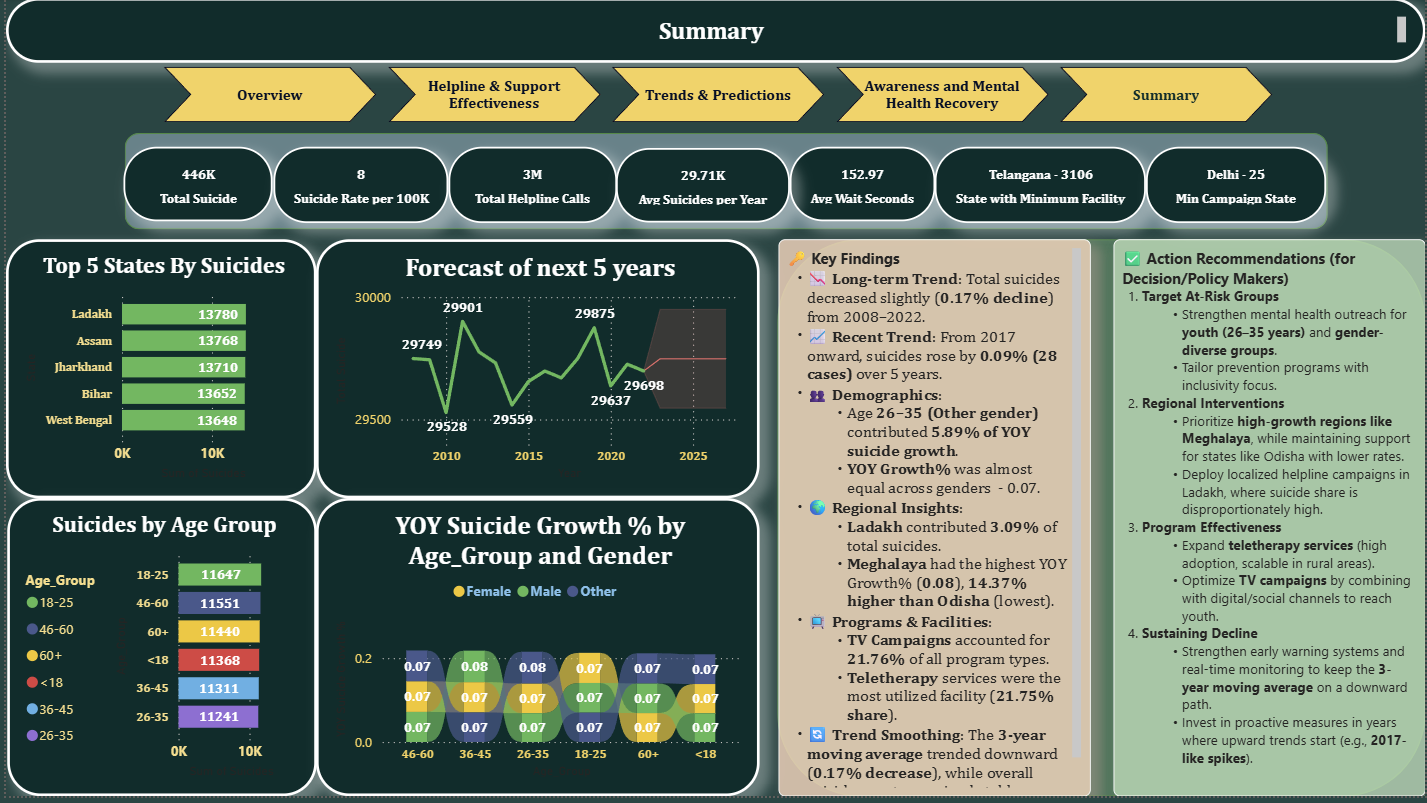

The dashboard page shown, as its layout file describes it:
{"tool":"powerbi","page":{"name":"Summary","canvas":[1280,720],"ordinal":4},"visuals":[{"type":"textbox","box":[0,0,1280.3,58],"z":0},{"type":"shape","box":[695.8,217.7,584.5,502.6],"z":1000},{"type":"shape","box":[107.6,122.3,1084.7,86.8],"z":2000},{"type":"pageNavigator","box":[141.8,62.4,1000.3,50.1],"z":3000},{"type":"card","fields":{"Values":["State_Suicide_Stats_Cleaned.Total Suicide State"]},"box":[106.4,134.5,134.5,67.3],"z":4000},{"type":"card","fields":{"Values":["State_Suicide_Stats_Cleaned.Suicide Rate"]},"box":[240.9,134.5,157.7,68.5],"z":5000},{"type":"card","fields":{"Values":["Helpline_Usage.Total Helpline Calls"]},"box":[398.6,134.5,151.6,68.5],"z":6000},{"type":"card","fields":{"Values":["Helpline_Usage.Avg Response Time"]},"box":[706.8,134.5,130.8,67.3],"z":7000},{"type":"barChart","title":"Top 5 States By Suicides","fields":{"Category":["State_Suicide_Stats_Cleaned.State"],"Y":["Sum(State_Suicide_Stats_Cleaned.Suicides)"]},"box":[0,217.4,280,233.6],"z":8000},{"type":"card","fields":{"Values":["State_Suicide_Stats_Cleaned.Avg Suicides per Year1"]},"box":[550.3,135.7,156.5,67.3],"z":9000},{"type":"lineChart","title":"Forecast of next 5 years","fields":{"Category":["State_Suicide_Stats_Cleaned.Year.Variation.Date Hierarchy.Year"],"Y":["State_Suicide_Stats_Cleaned.Total Suicide"]},"box":[280,217.7,399.9,233.6],"z":10000},{"type":"card","fields":{"Values":["Mental_Health_Facilities.State with Minimum Facility"]},"box":[837.6,134.5,190.8,68.5],"z":11000},{"type":"card","fields":{"Values":["Awareness_Programs.State with Minimum Campaign"]},"box":[1028.4,134.5,162.6,68.5],"z":12000},{"type":"barChart","title":"Suicides by Age Group","fields":{"Category":["State_Suicide_Stats_Cleaned.Age_Group"],"Y":["Sum(State_Suicide_Stats_Cleaned.Suicides)"],"Series":["State_Suicide_Stats_Cleaned.Age_Group"]},"box":[1.2,451,278.8,269],"z":13000},{"type":"ribbonChart","fields":{"Category":["State_Suicide_Stats_Cleaned.Age_Group"],"Y":["State_Suicide_Stats_Cleaned.YOY Suicide Growth %"],"Series":["State_Suicide_Stats_Cleaned.Gender"]},"box":[280,451.2,399.9,269],"z":14000},{"type":"textbox","box":[697,217.7,281.3,502.6],"z":15000},{"type":"textbox","box":[999.1,217.7,281.3,502.6],"z":16000}]}

Visuals, with their boxes in screenshot pixels (x1, y1, x2, y2), scaled from the page's 1280x720 canvas onto the 1427x803 screenshot:
textbox: BBox(0, 0, 1426, 65)
shape: BBox(776, 243, 1426, 802)
shape: BBox(120, 136, 1329, 233)
pageNavigator: BBox(158, 70, 1273, 125)
card - State_Suicide_Stats_Cleaned.Total Suicide State: BBox(119, 150, 269, 225)
card - State_Suicide_Stats_Cleaned.Suicide Rate: BBox(269, 150, 444, 226)
card - Helpline_Usage.Total Helpline Calls: BBox(444, 150, 613, 226)
card - Helpline_Usage.Avg Response Time: BBox(788, 150, 934, 225)
"Top 5 States By Suicides" barChart: BBox(0, 242, 312, 503)
card - State_Suicide_Stats_Cleaned.Avg Suicides per Year1: BBox(613, 151, 788, 226)
"Forecast of next 5 years" lineChart: BBox(312, 243, 758, 503)
card - Mental_Health_Facilities.State with Minimum Facility: BBox(934, 150, 1147, 226)
card - Awareness_Programs.State with Minimum Campaign: BBox(1147, 150, 1328, 226)
"Suicides by Age Group" barChart: BBox(1, 503, 312, 802)
ribbonChart - State_Suicide_Stats_Cleaned.Age_Group x State_Suicide_Stats_Cleaned.YOY Suicide Growth %: BBox(312, 503, 758, 802)
textbox: BBox(777, 243, 1091, 802)
textbox: BBox(1114, 243, 1426, 802)
